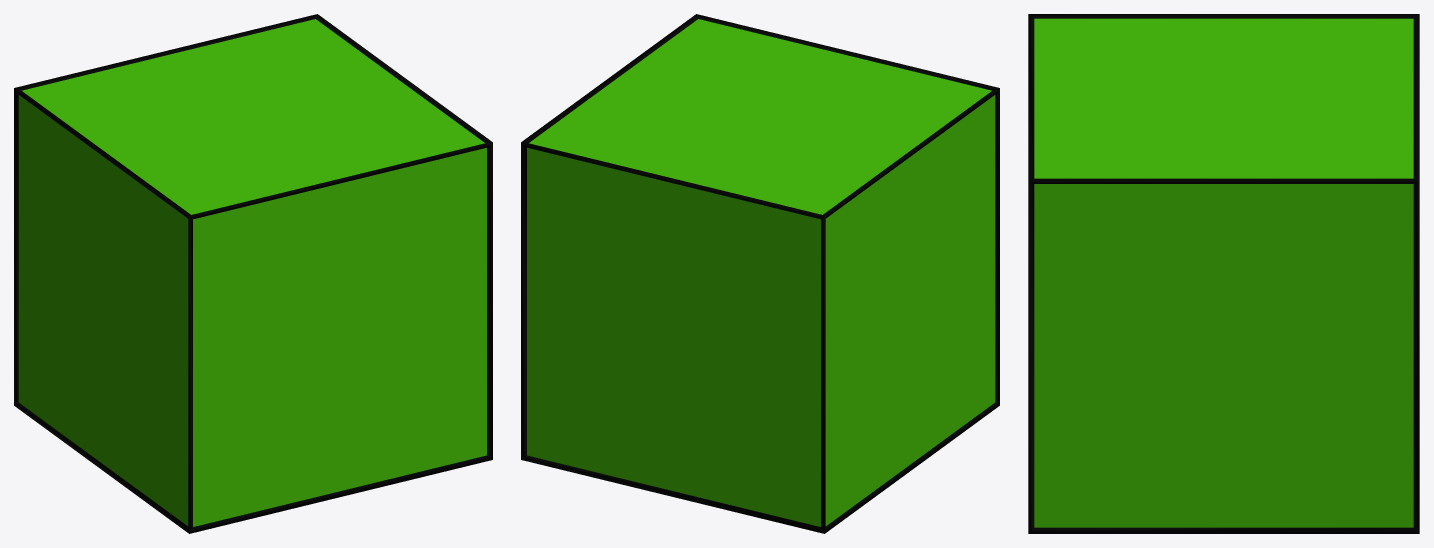
File: cube_green.obj
The picture shows the model from 3 angles, left to right: view 1: azimuth 30°, elevation 25°; view 2: azimuth 150°, elevation 25°; view 3: azimuth 270°, elevation 25°; orthographic projection. The views are drawn at different scales.
Visible parts, largest first — view 1: Cube_green.001, Cube_green; view 2: Cube_green.001, Cube_green; view 3: Cube_green.001, Cube_green.
Part boxes in pixels (x1=…): Cube_green.001: x1=18, y1=19, x2=486, y2=526; Cube_green: x1=14, y1=14, x2=492, y2=533; Cube_green.001: x1=527, y1=19, x2=995, y2=526; Cube_green: x1=521, y1=14, x2=999, y2=533; Cube_green.001: x1=1034, y1=18, x2=1413, y2=527; Cube_green: x1=1028, y1=14, x2=1419, y2=533.
Bounding box in the file's own units: 0.0506 × 0.0506 × 0.0506.
